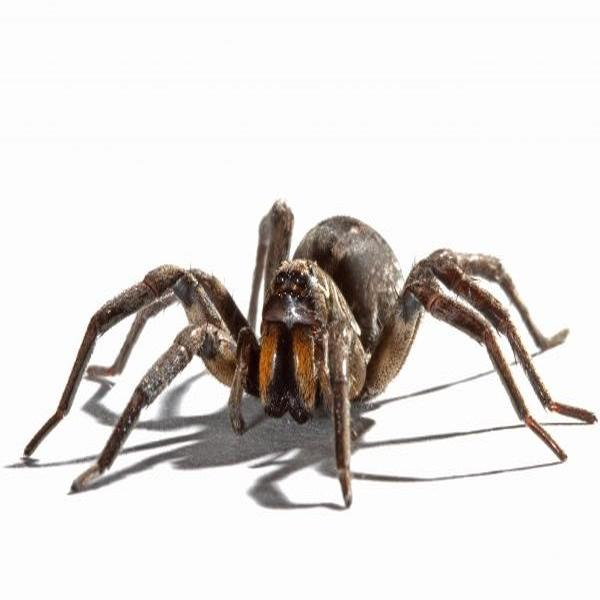Funnel Web Spider: (39, 207, 597, 505)
